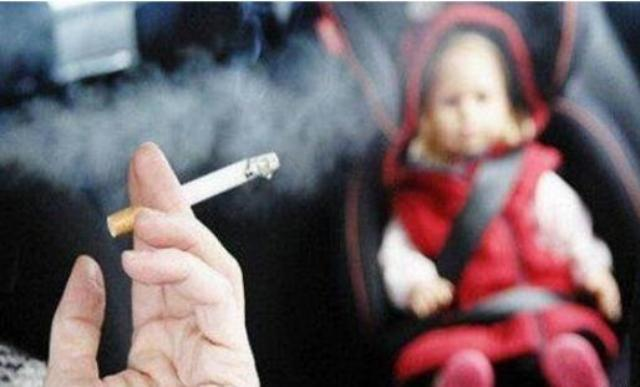Smoking: (107, 153, 279, 239)
